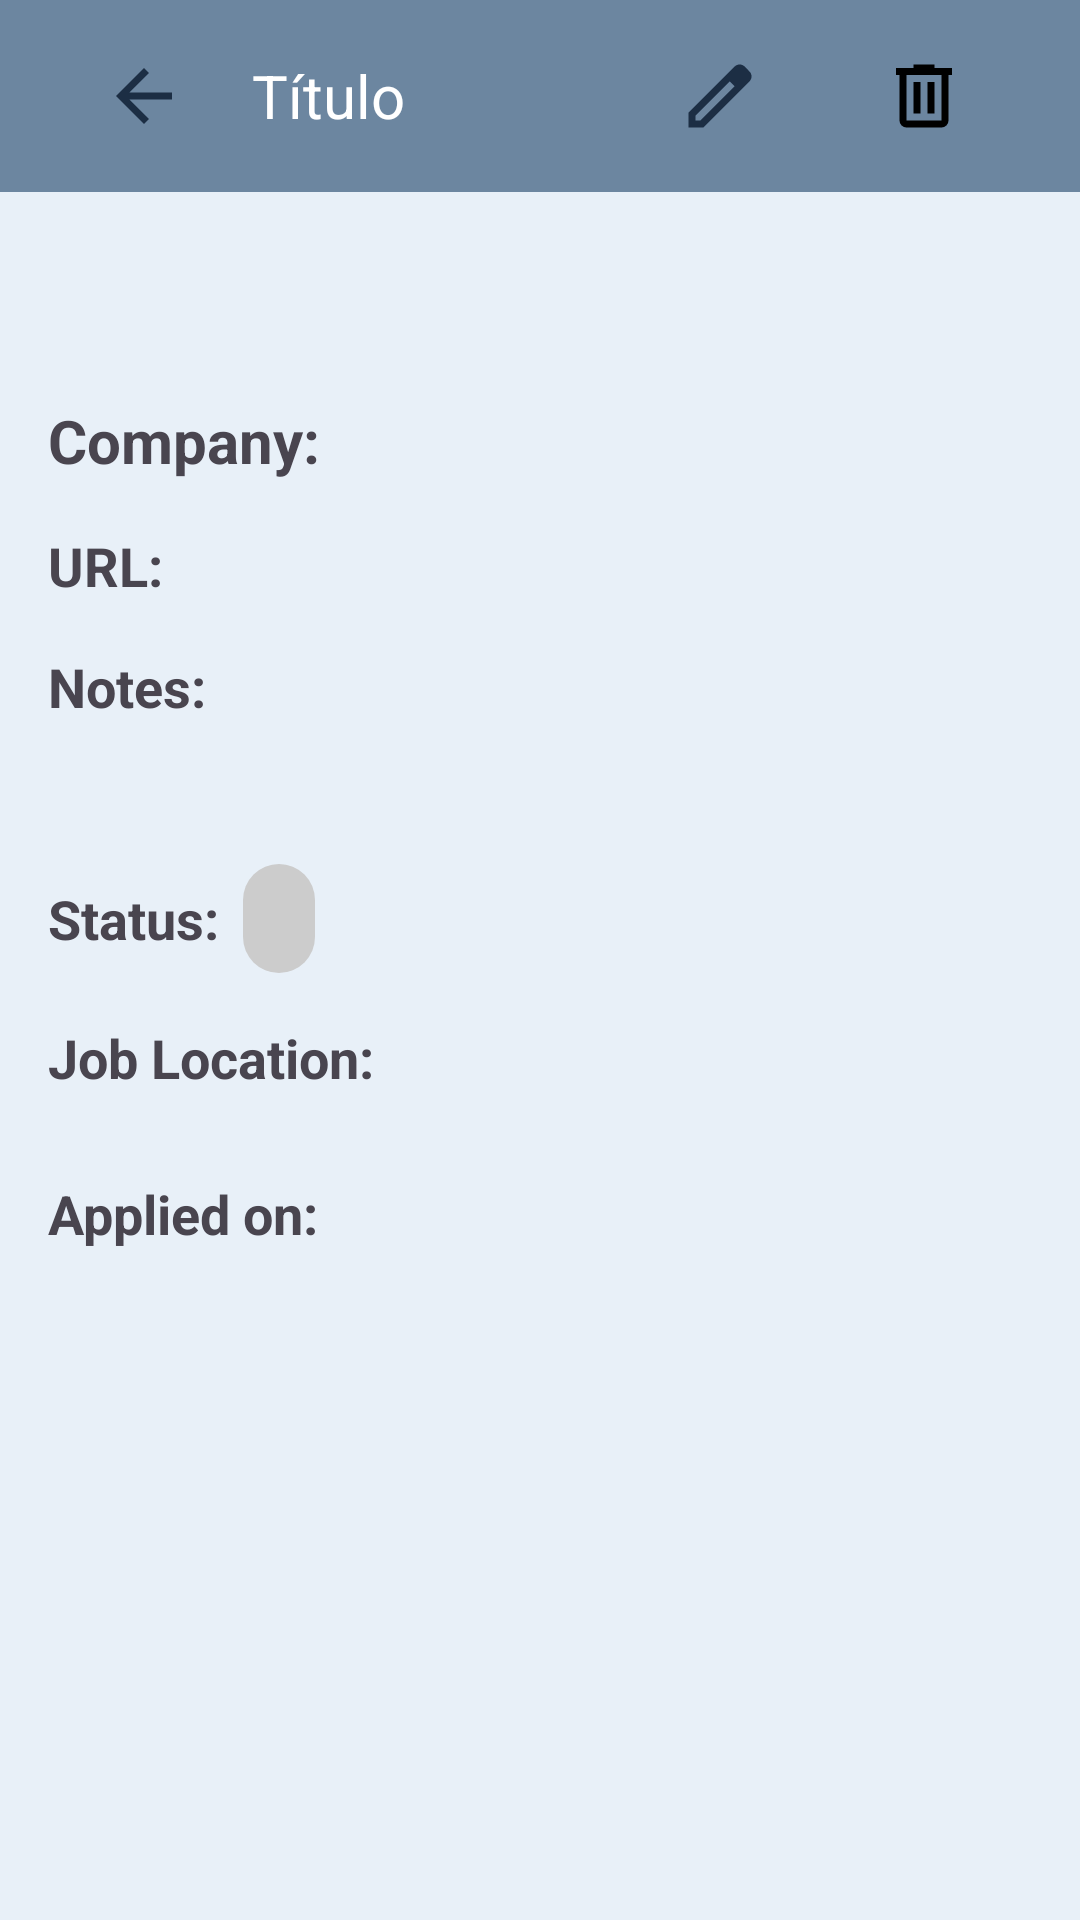

Icon click points for this 1080*1920 phone screenshot, format [x,y]:
Apagar: [924,96]
Editar: [720,96]
Voltar: [144,96]
